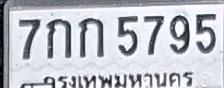5: (117, 15, 138, 55), (196, 13, 216, 53)
7: (18, 18, 40, 59), (144, 15, 163, 55)
9: (170, 14, 190, 53)
A01: (78, 17, 104, 57), (46, 18, 71, 58)
BKK: (41, 69, 197, 88)
